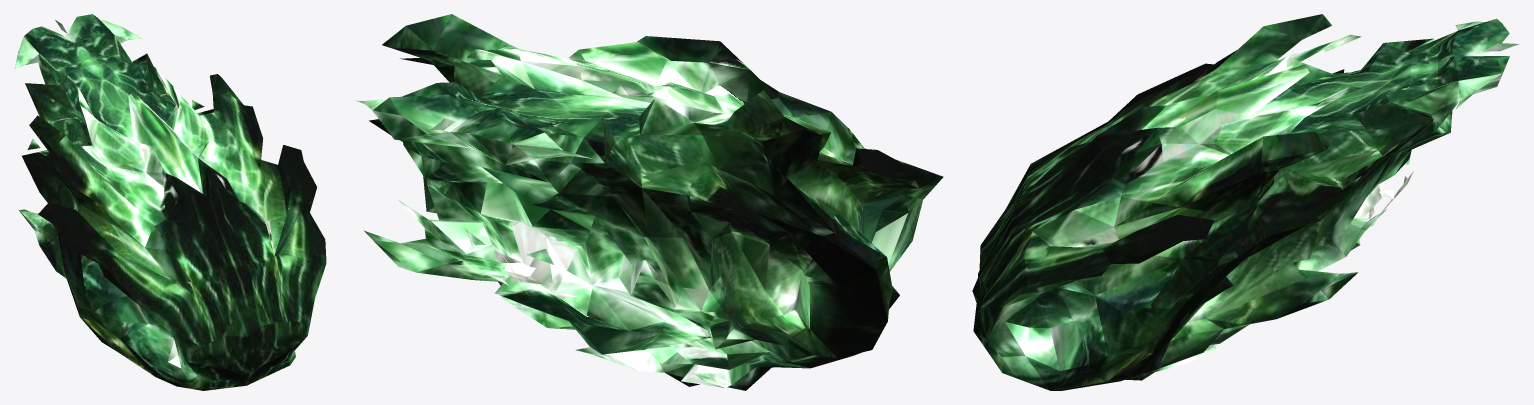
The model's file is comet_green_01.glb.
3 views of the same model, side by side, from view 1: azimuth 30°, elevation 25°; view 2: azimuth 150°, elevation 25°; view 3: azimuth 270°, elevation 25° (orthographic). The views are drawn at different scales.
Parts seen in each view (by area): view 1: Mesh_0; view 2: Mesh_0; view 3: Mesh_0.
Part boxes in pixels (x1,y1,x2,y2): Mesh_0: (14,14,326,390); Mesh_0: (356,14,943,390); Mesh_0: (972,14,1518,390).
Size of the model in its own units: 1.44 by 1.29 by 1.9.
Materials: 1 (1 with a texture image).
